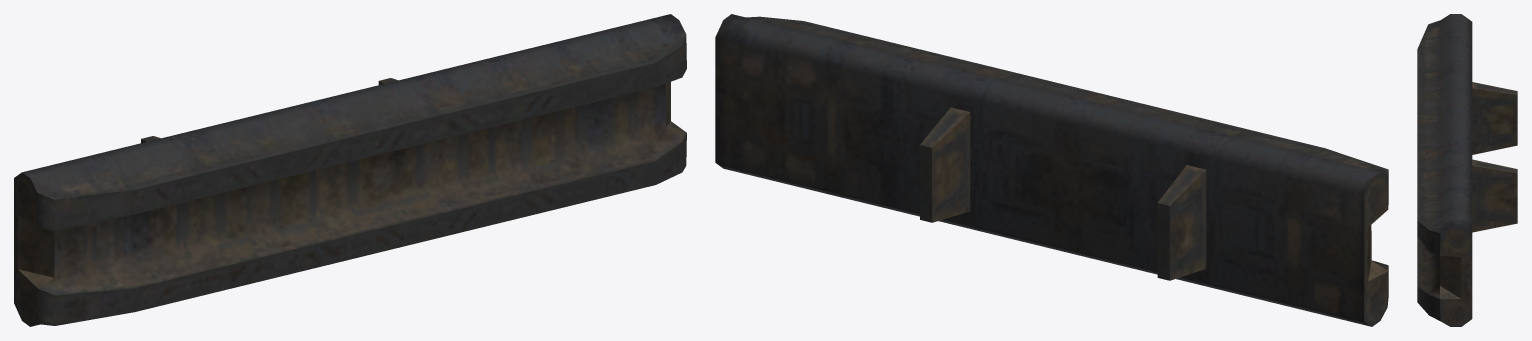
3 views of the same model, side by side, from view 1: azimuth 30°, elevation 25°; view 2: azimuth 150°, elevation 25°; view 3: azimuth 270°, elevation 25° (orthographic). The views are drawn at different scales.
Visible parts, largest first — view 1: set_0_group_0; view 2: set_0_group_0; view 3: set_0_group_0.
Boxes of the visible parts, left/top/right/bottom form: set_0_group_0: left=14, top=14, right=686, bottom=326; set_0_group_0: left=715, top=14, right=1388, bottom=326; set_0_group_0: left=1417, top=14, right=1517, bottom=326.
Bounding box in the file's own units: 0.9943 × 0.2176 × 0.1977.
1 material, 1 textured.
